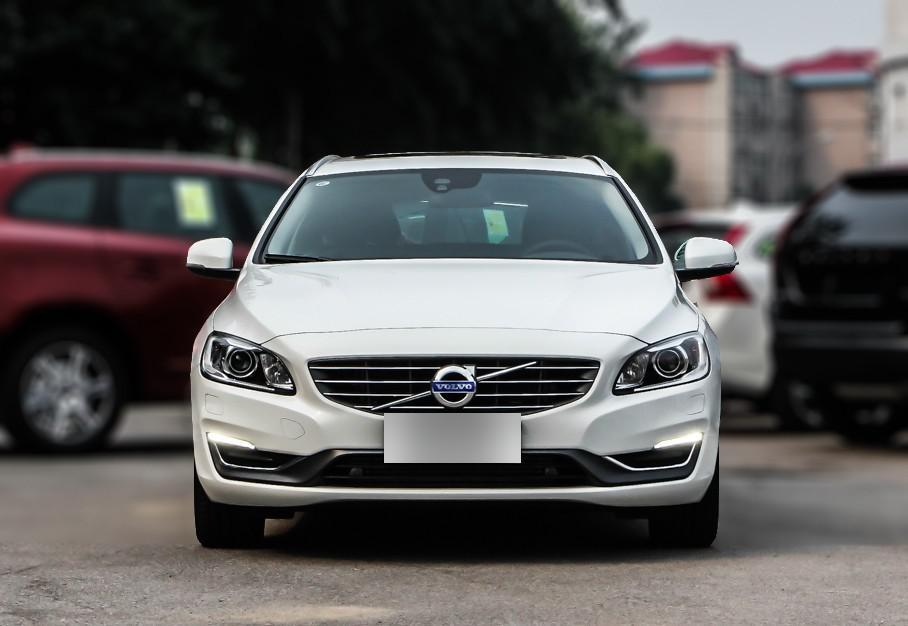Wagon: (184, 152, 740, 549)
